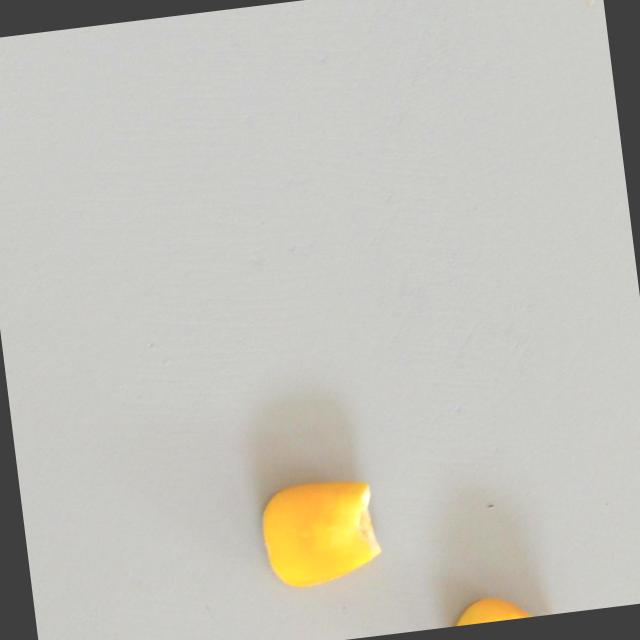no_canjicado: (255, 472, 386, 592)
pelicula: (441, 588, 558, 627)
